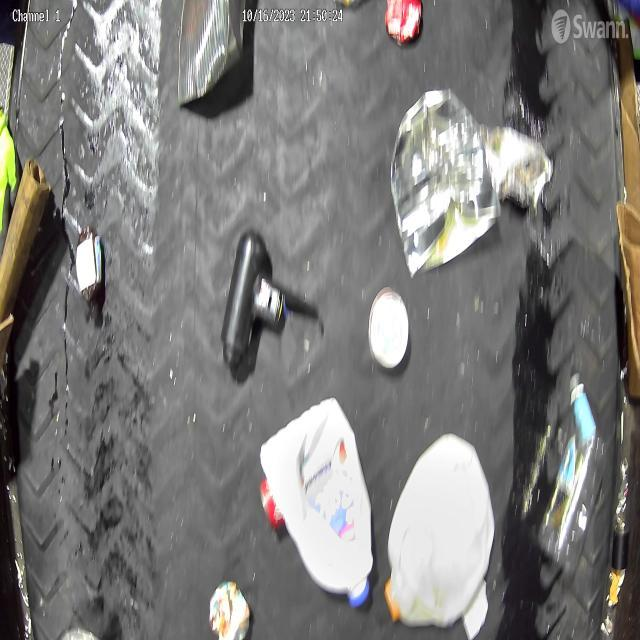can: (388, 78, 502, 279), (174, 0, 249, 113), (479, 120, 557, 212), (368, 288, 410, 374), (207, 577, 253, 640), (383, 0, 424, 48)
milk_jug: (260, 396, 378, 608), (382, 427, 496, 631)
